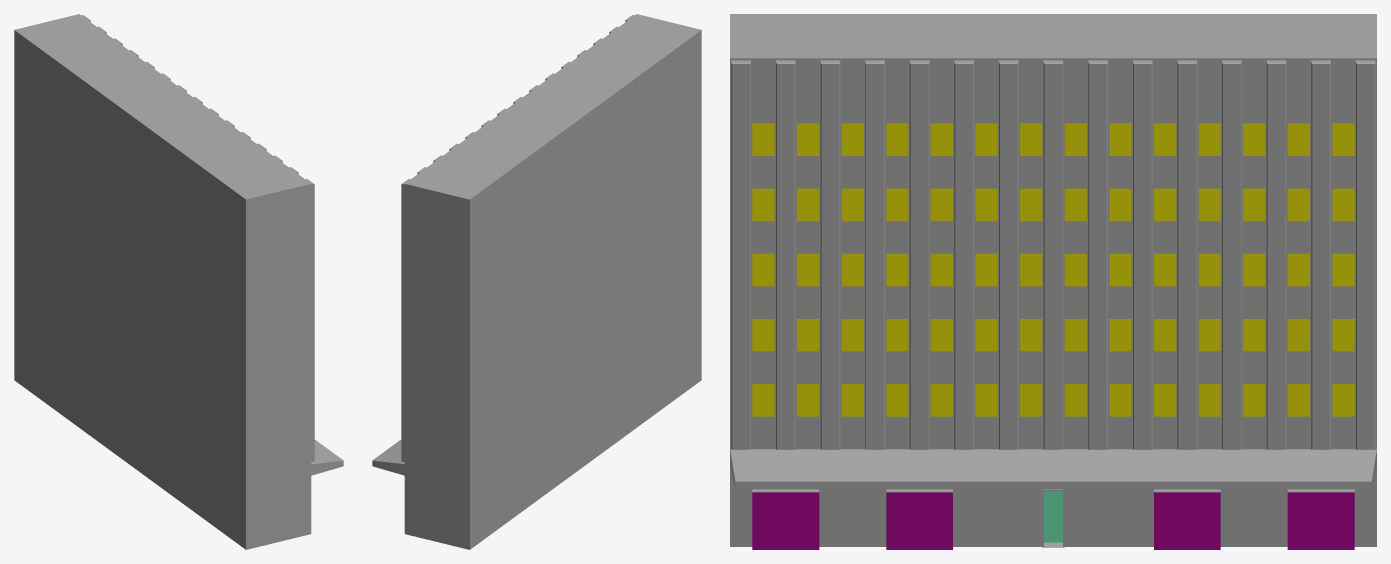
The model's file is Textured_OfficeBuildingKK.fbx.
The picture shows the model from 3 angles, left to right: view 1: azimuth 30°, elevation 25°; view 2: azimuth 150°, elevation 25°; view 3: azimuth 270°, elevation 25°; orthographic projection. The views are drawn at different scales.
Visible parts, largest first — view 1: LargeOfficeBuilding; view 2: LargeOfficeBuilding; view 3: LargeOfficeBuilding.
Boxes of the visible parts, <box> form: LargeOfficeBuilding: <box>14,14,343,549</box>; LargeOfficeBuilding: <box>372,14,701,549</box>; LargeOfficeBuilding: <box>730,14,1376,549</box>.
Size of the model in its own units: 744 by 2500 by 3000.
